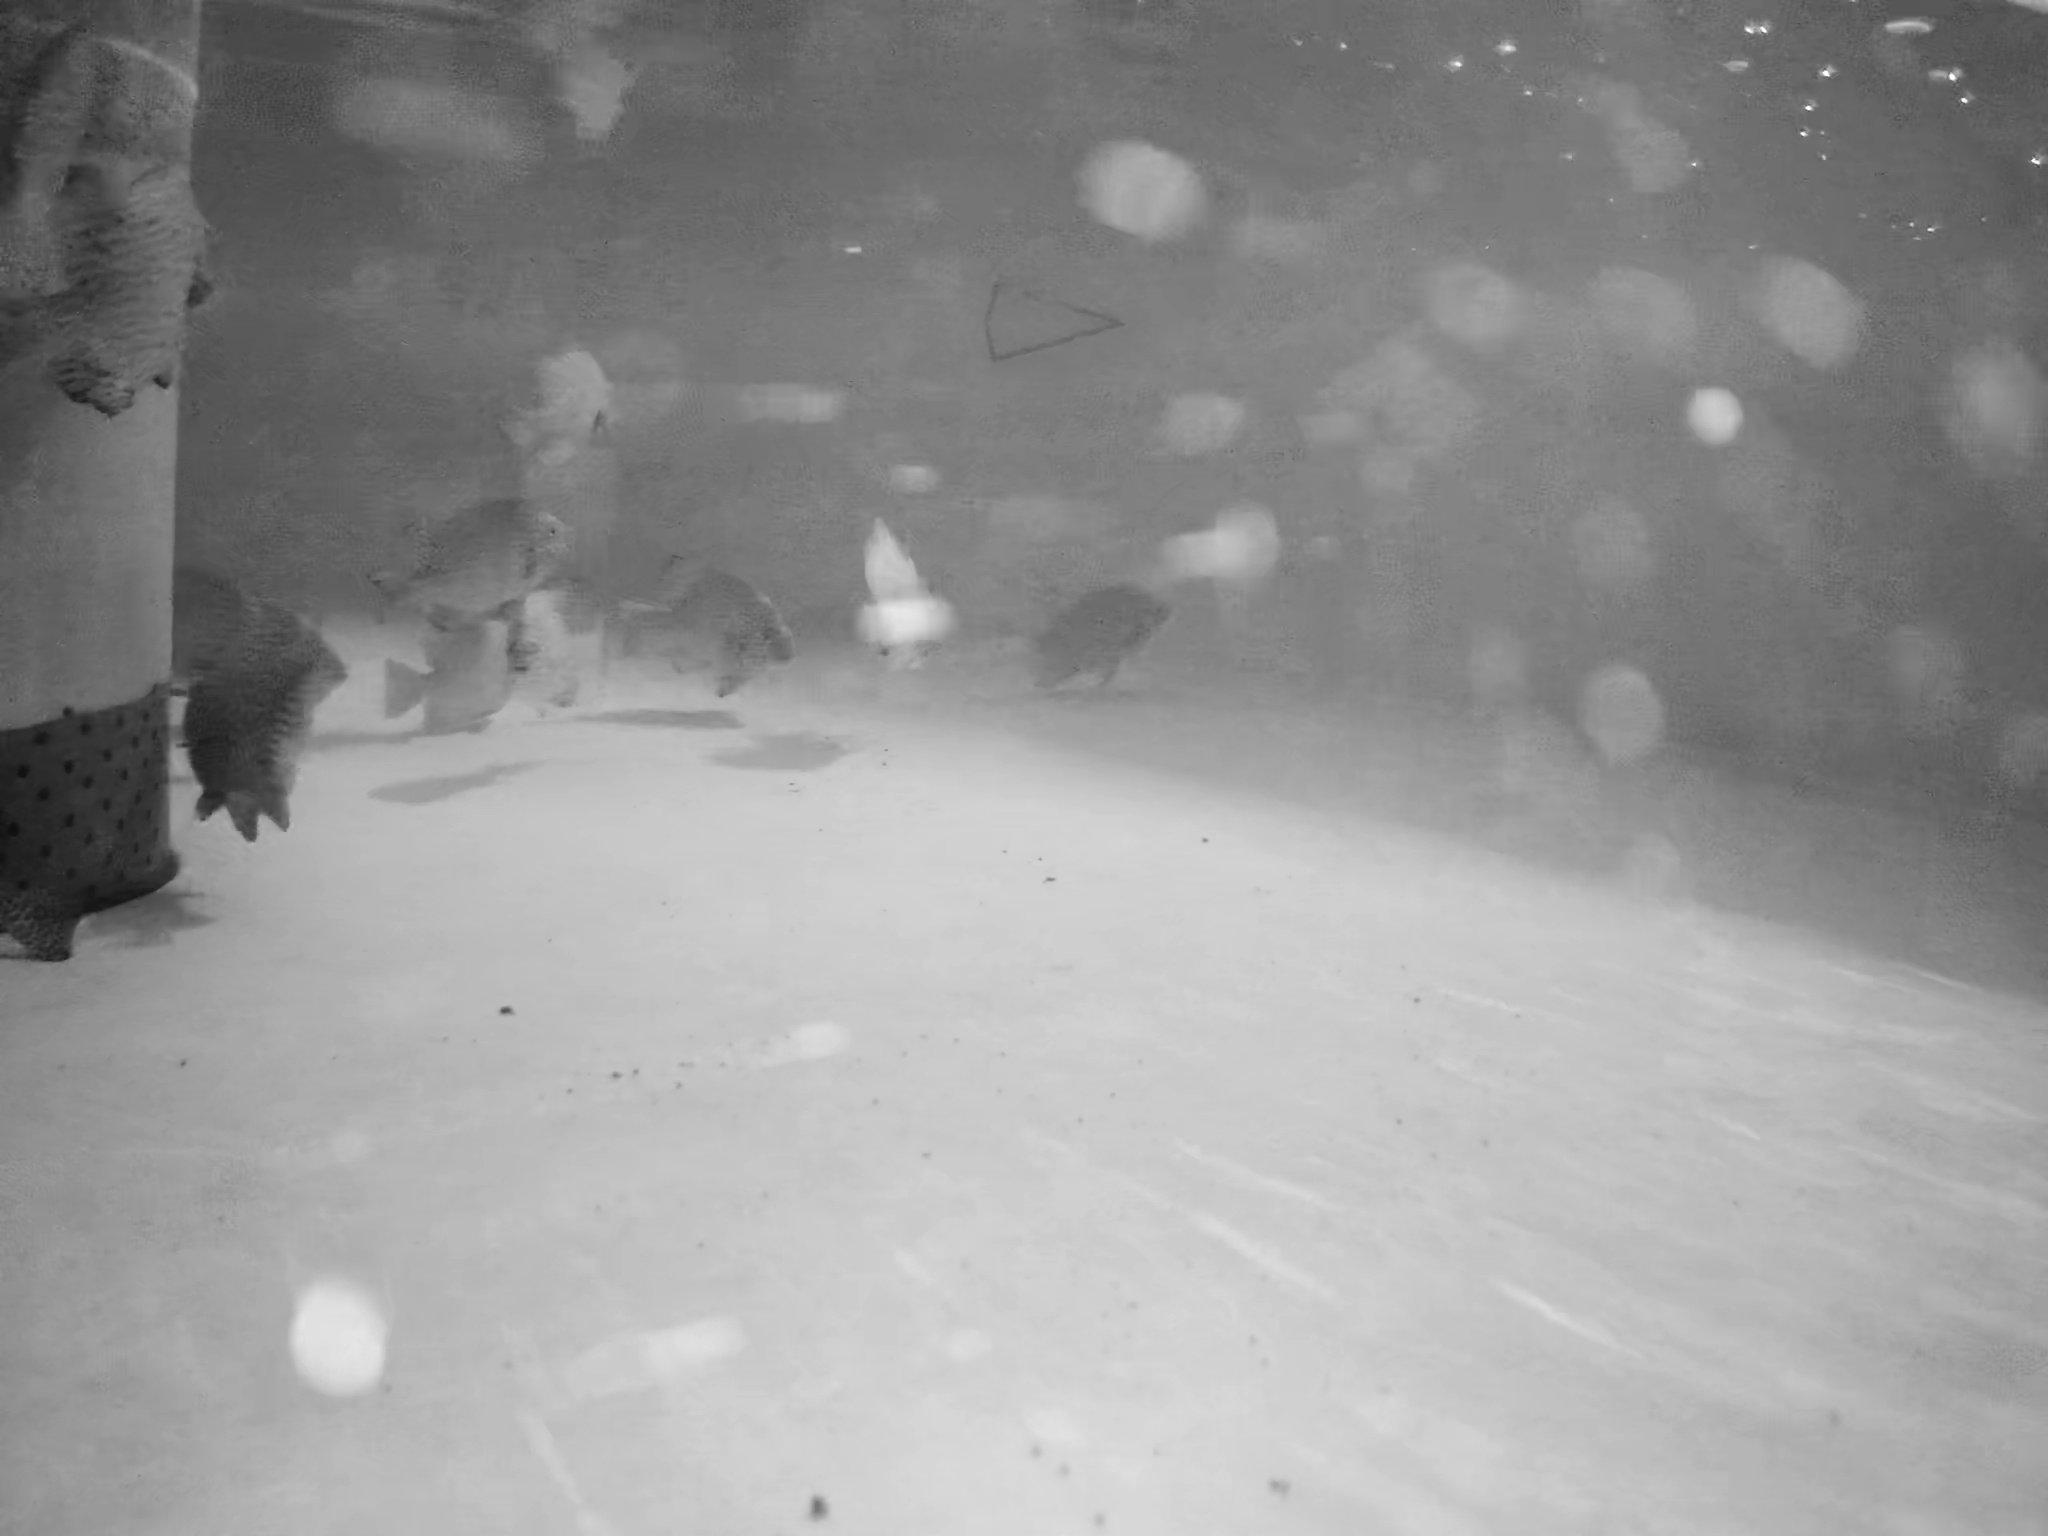fish: (55, 15, 210, 419), (200, 603, 335, 820), (616, 563, 801, 707), (368, 500, 593, 616), (506, 315, 605, 502), (1030, 581, 1179, 694), (411, 616, 539, 741), (531, 582, 587, 710)
